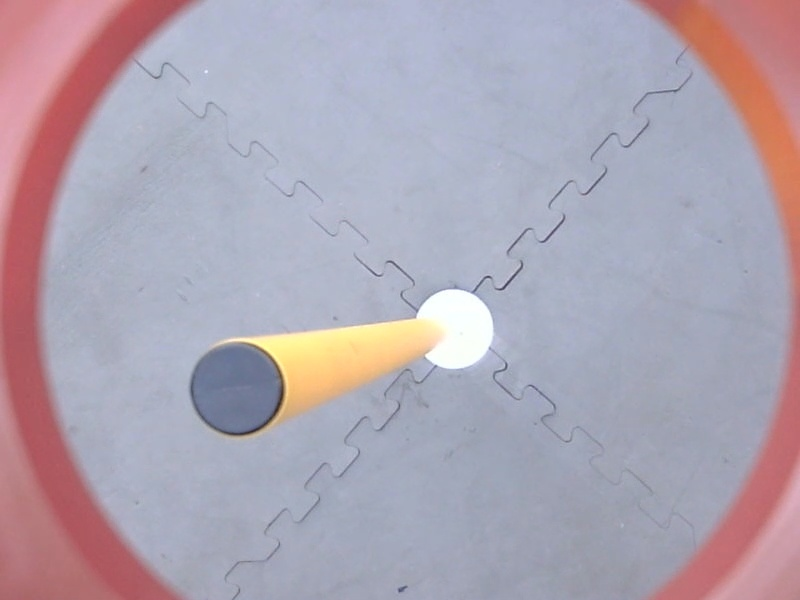tip: (179, 333, 296, 445)
